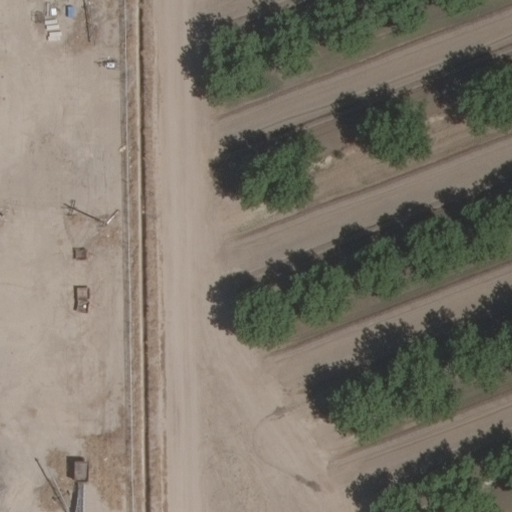DT: (99, 204, 123, 231)
